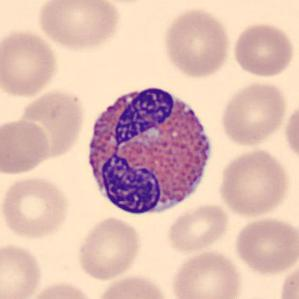Eosinophil: (80, 76, 219, 222)
RBC: (160, 5, 233, 80), (15, 87, 87, 162), (216, 146, 291, 218), (218, 80, 288, 148), (0, 173, 71, 240), (74, 214, 143, 282), (35, 0, 122, 52), (0, 27, 61, 99), (233, 215, 297, 276), (169, 247, 243, 299), (231, 20, 296, 78), (164, 201, 231, 255), (0, 116, 51, 177), (0, 241, 44, 299), (95, 272, 172, 299), (24, 279, 98, 299), (283, 100, 299, 164), (277, 258, 299, 298)
